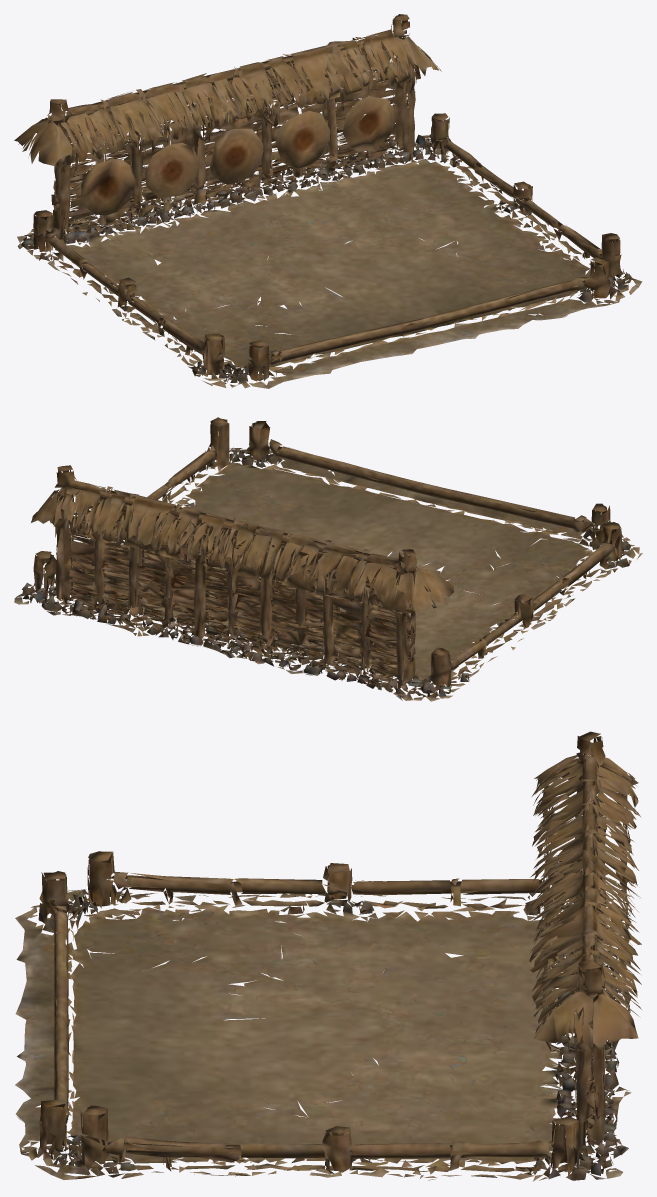
Rendered from archery_far.glb.
The picture shows the model from 3 angles, top to bottom: view 1: azimuth 30°, elevation 25°; view 2: azimuth 150°, elevation 25°; view 3: azimuth 270°, elevation 25°; orthographic projection. The views are drawn at different scales.
Visible parts, largest first — view 1: model; view 2: model; view 3: model.
Boxes of the visible parts, x1=… form: model: x1=14, y1=14, x2=642, y2=388; model: x1=14, y1=417, x2=642, y2=701; model: x1=15, y1=731, x2=641, y2=1181.
Size of the model in its own units: 0.9972 by 0.3035 by 0.9158.
1 material, 1 textured.
